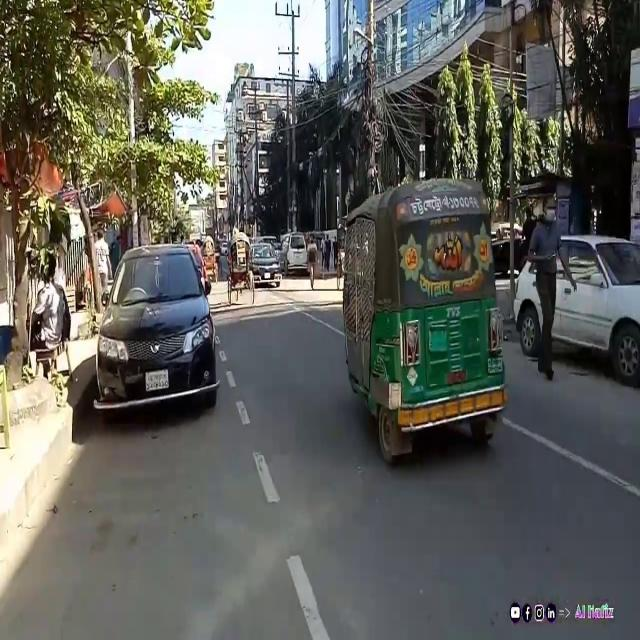black: (92, 245, 212, 426), (248, 233, 282, 294)
white: (511, 234, 640, 374), (284, 226, 309, 280)
